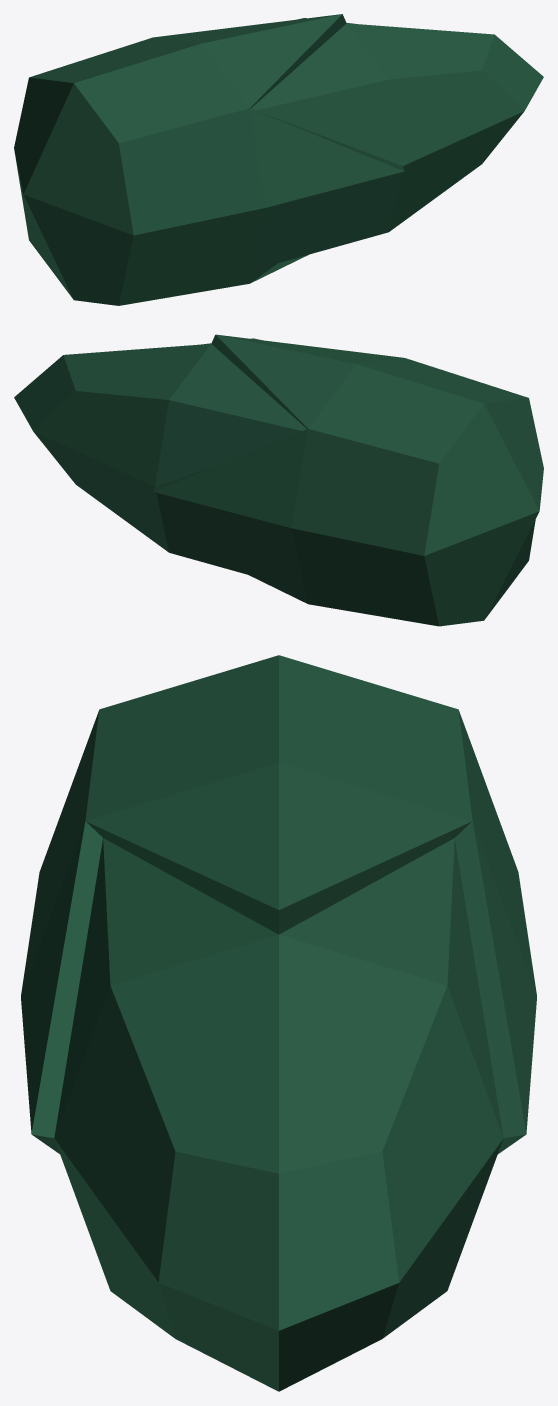
File: maize.glb
3 views of the same model, one above another, from view 1: azimuth 30°, elevation 25°; view 2: azimuth 150°, elevation 25°; view 3: azimuth 270°, elevation 25° (orthographic). The views are drawn at different scales.
Parts seen in each view (by area): view 1: Corn_Crop_Cube024; view 2: Corn_Crop_Cube024; view 3: Corn_Crop_Cube024.
Boxes of the visible parts, x1,y1,x2,y2 form: Corn_Crop_Cube024: [14, 14, 543, 305]; Corn_Crop_Cube024: [14, 334, 543, 626]; Corn_Crop_Cube024: [21, 655, 536, 1391].
Bounding box in the file's own units: 3.22 × 1.37 × 1.37.
